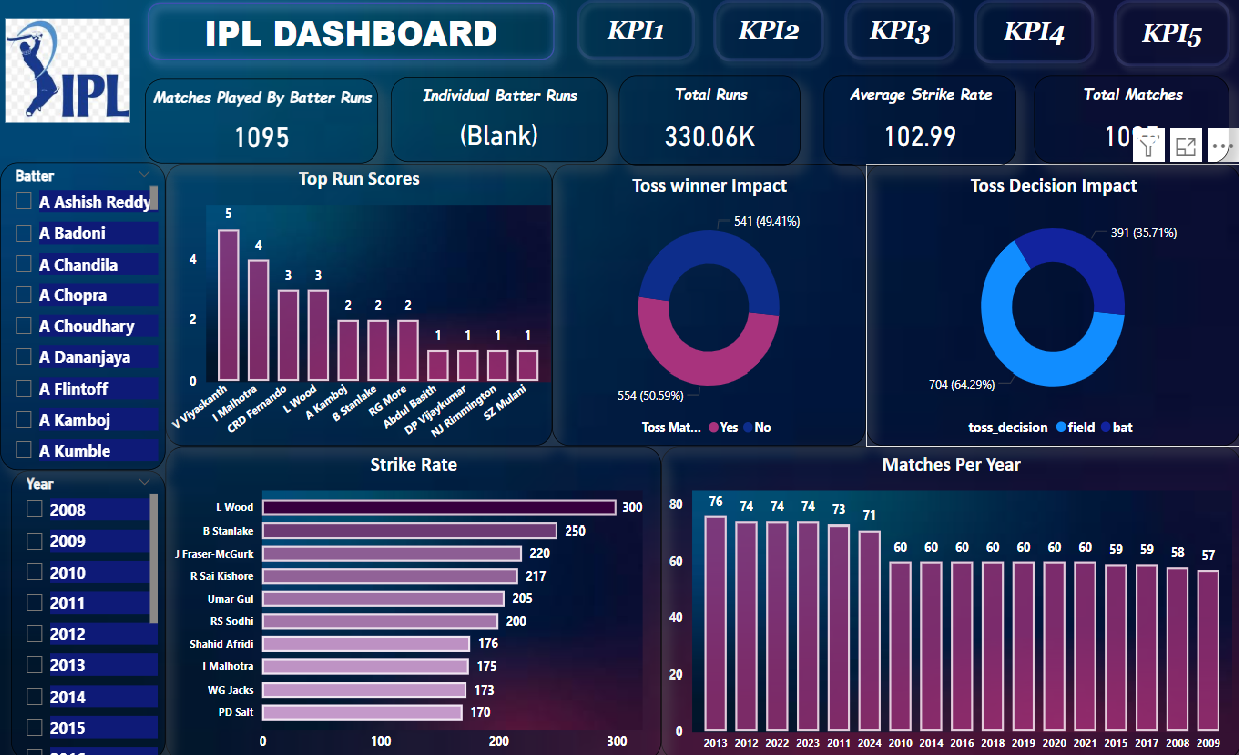

What the dashboard file says about the page in this screenshot:
{"tool":"powerbi","page":{"name":" Dashboard","canvas":[1280,720],"ordinal":6},"visuals":[{"type":"clusteredColumnChart","title":"Matches Per Year","fields":{"Category":["matches.Year"],"Y":["matches.id"]},"box":[682.4,427.2,597.8,293.3],"z":0},{"type":"clusteredColumnChart","title":"Top Run Scores","fields":{"Y":["deliveries.batsman_runs"],"Category":["deliveries.batter"]},"box":[170.6,163.6,399,263.7],"z":1000},{"type":"donutChart","title":"Toss winner Impact","fields":{"Category":["matches.TossMatchWin"],"Y":["matches.id"]},"box":[569.6,163.6,324.3,263.7],"z":2000},{"type":"clusteredBarChart","title":"Strike Rate","fields":{"Category":["Strike_rate_Summary.batter"],"Y":["Strike_rate_Summary.Strike Rate"]},"box":[170.6,427.2,511.8,293.3],"z":3000},{"type":"shape","box":[139.1,0,445.5,79.7],"z":4000},{"type":"pieChart","title":"Toss Decision Impact","fields":{"Category":["matches.toss_decision"],"Y":["matches.TossWin"]},"box":[893.9,163.6,386.3,263.7],"z":5000},{"type":"actionButton","box":[584.6,0,142.2,76.6],"z":6000},{"type":"actionButton","box":[726.8,0,134.4,78.1],"z":7000},{"type":"actionButton","box":[861.2,0,134.4,76.6],"z":8000},{"type":"actionButton","box":[995.6,0,143.8,79.7],"z":9000},{"type":"actionButton","box":[1139.4,0,140.7,82.8],"z":10000},{"type":"slicer","fields":{"Values":["matches.Year"]},"box":[11.3,449.8,159.3,270.7],"z":11000},{"type":"slicer","fields":{"Values":["deliveries.batter"]},"box":[0,162.6,170.4,287.6],"z":12000},{"type":"card","title":"Total Matches","fields":{"Values":["matches.Matches Played1"]},"box":[1067.5,79.7,201.6,82.8],"z":13000},{"type":"card","title":"Average Strike Rate","fields":{"Values":["Strike_rate_Summary.Strike Rate"]},"box":[850.3,79.7,198.5,84.4],"z":14000},{"type":"card","title":"Total Runs","fields":{"Values":["Strike_rate_Summary.Total Run"]},"box":[639.3,79.7,187.6,84.4],"z":15000},{"type":"card","title":"Individual Batter Runs","fields":{"Values":["deliveries.Selected Batter Runs"]},"box":[403.3,81.3,223.5,79.7],"z":16000},{"type":"card","title":"Matches Played By Batter Runs","fields":{"Values":["deliveries.Matches Played"]},"box":[150,82.8,240.7,79.7],"z":17000},{"type":"image","box":[0,21.9,139.1,107.8],"z":17001}]}

Visuals, with their boxes on the page's 1280x720 design canvas (x1, y1, x2, y2). These are canvas units, not pixel positions in the 1239x755 screenshot, which may show the page scaled, cropped or inside an application window:
"Matches Per Year" clusteredColumnChart: box(682, 427, 1280, 720)
"Top Run Scores" clusteredColumnChart: box(171, 164, 570, 427)
"Toss winner Impact" donutChart: box(570, 164, 894, 427)
"Strike Rate" clusteredBarChart: box(171, 427, 682, 720)
shape: box(139, 0, 585, 80)
"Toss Decision Impact" pieChart: box(894, 164, 1280, 427)
actionButton: box(585, 0, 727, 77)
actionButton: box(727, 0, 861, 78)
actionButton: box(861, 0, 996, 77)
actionButton: box(996, 0, 1139, 80)
actionButton: box(1139, 0, 1280, 83)
slicer - matches.Year: box(11, 450, 171, 720)
slicer - deliveries.batter: box(0, 163, 170, 450)
"Total Matches" card: box(1068, 80, 1269, 162)
"Average Strike Rate" card: box(850, 80, 1049, 164)
"Total Runs" card: box(639, 80, 827, 164)
"Individual Batter Runs" card: box(403, 81, 627, 161)
"Matches Played By Batter Runs" card: box(150, 83, 391, 162)
image: box(0, 22, 139, 130)
